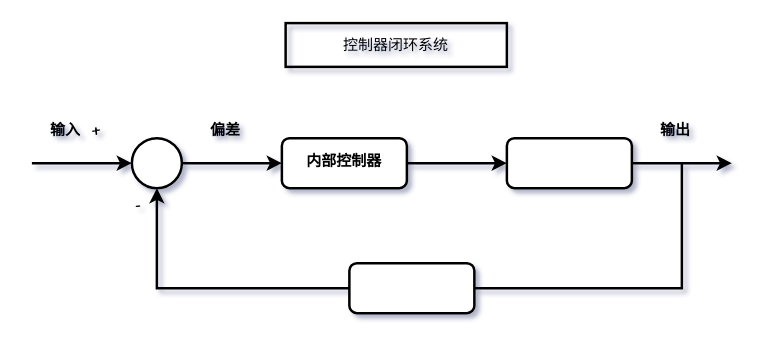
Image size: 771x343. Some labels were removed from this diagram. Each missing label, with the box of its shape:
反馈: (348, 261, 475, 314)
处理: (505, 136, 632, 189)
